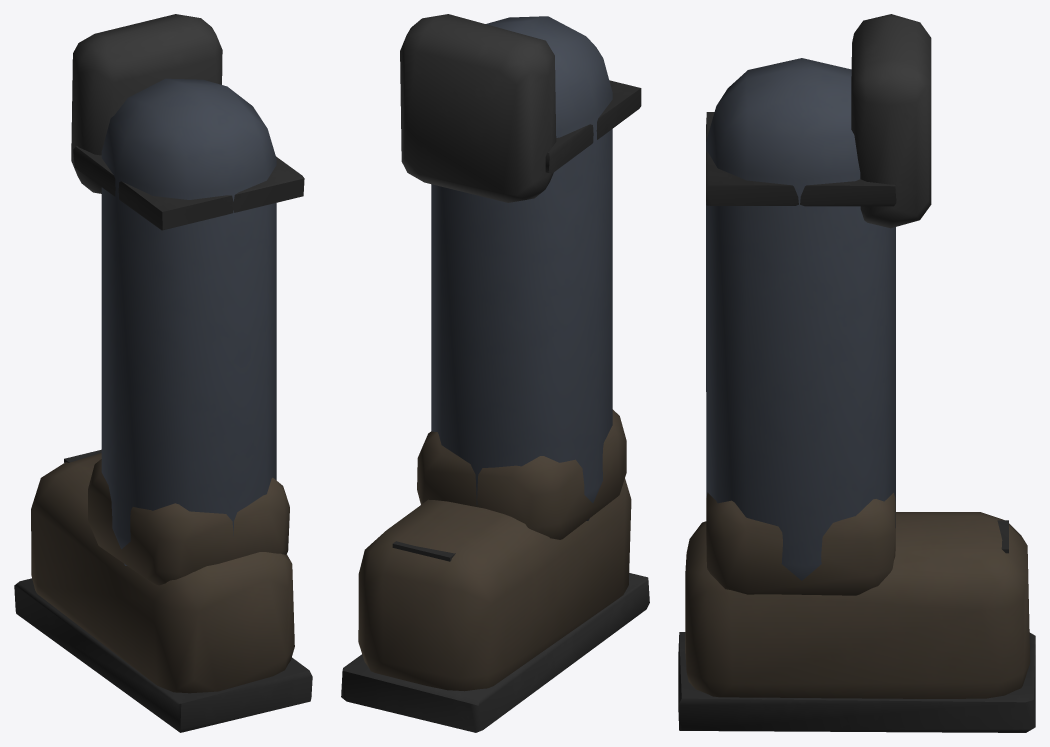
The model's file is SM_OperatorBShin_LOD1.fbx.
3 renders of one model, left to right at view 1: azimuth 30°, elevation 25°; view 2: azimuth 150°, elevation 25°; view 3: azimuth 270°, elevation 25°, orthographic. The views are drawn at different scales.
Visible parts, largest first — view 1: SM_OperatorBShin_LOD1; view 2: SM_OperatorBShin_LOD1; view 3: SM_OperatorBShin_LOD1.
Part boxes in pixels (left/top/right/bottom): SM_OperatorBShin_LOD1: left=14, top=14, right=312, bottom=732; SM_OperatorBShin_LOD1: left=341, top=14, right=649, bottom=732; SM_OperatorBShin_LOD1: left=678, top=14, right=1035, bottom=732.
Bounding box in the file's own units: 0.1281 × 0.5247 × 0.2573.
1 material, 1 textured.
